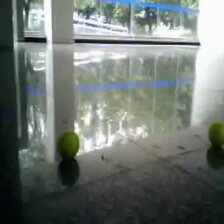tennis: (57, 132, 79, 158), (209, 121, 224, 147)
